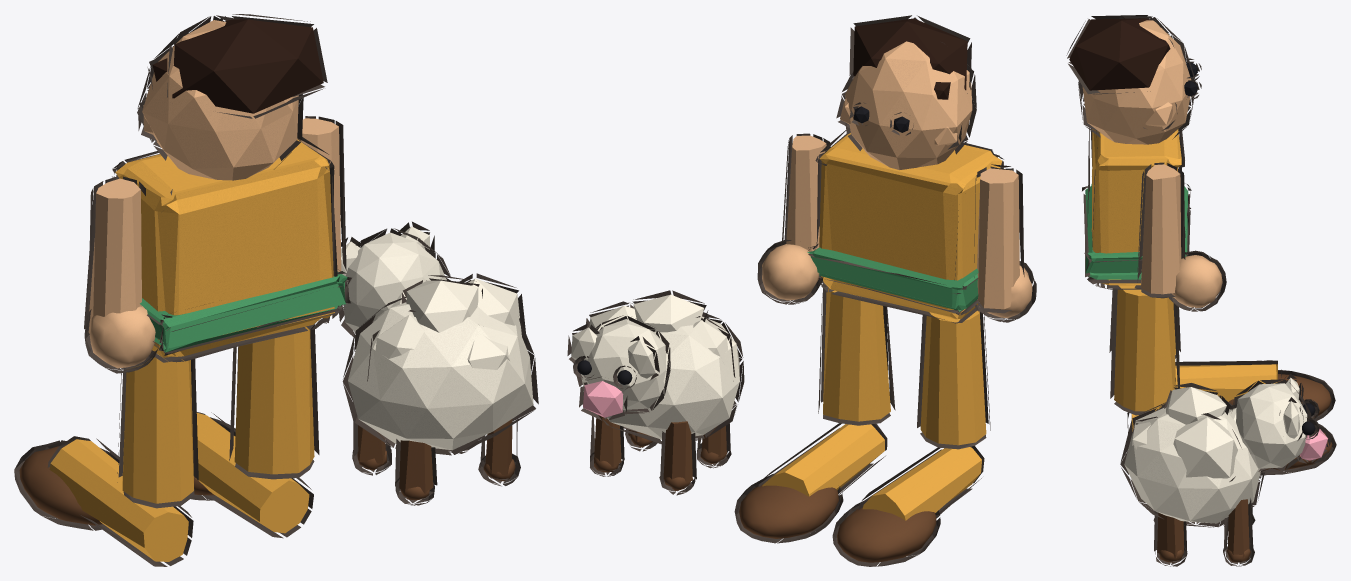
The model's file is david_mentor_v6.glb.
3 views of the same model, side by side, from view 1: azimuth 30°, elevation 25°; view 2: azimuth 150°, elevation 25°; view 3: azimuth 270°, elevation 25° (orthographic). The views are drawn at different scales.
Parts seen in each view (by area): view 1: David_Mentor, David_Mentor_Outline; view 2: David_Mentor, David_Mentor_Outline; view 3: David_Mentor, David_Mentor_Outline.
Part boxes in pixels (left/top/right/bottom): David_Mentor: left=19, top=19, right=533, bottom=561; David_Mentor_Outline: left=14, top=14, right=538, bottom=566; David_Mentor: left=571, top=18, right=1032, bottom=562; David_Mentor_Outline: left=567, top=15, right=1036, bottom=566; David_Mentor: left=1069, top=18, right=1332, bottom=562; David_Mentor_Outline: left=1066, top=15, right=1336, bottom=566.
Size of the model in its own units: 0.9059 by 1.01 by 0.5636.
9 materials, 8 textured.
